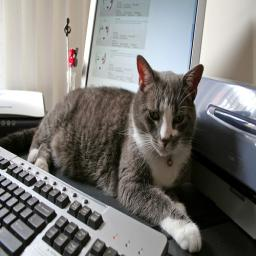catnose: (160, 130, 172, 148)
